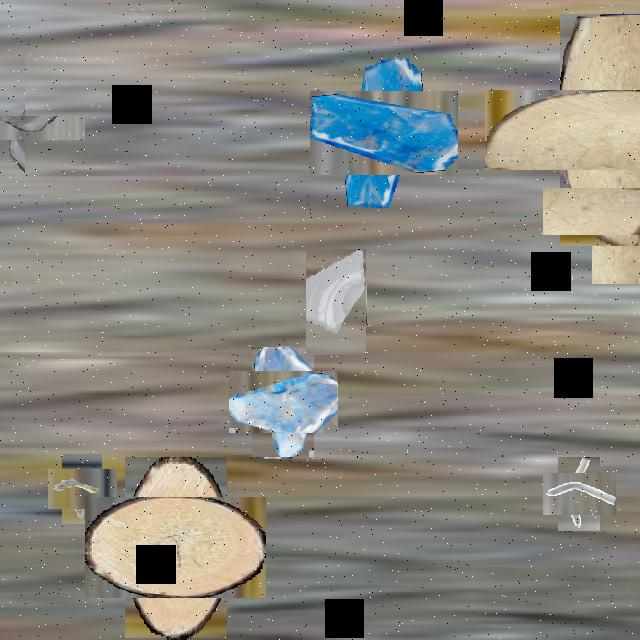glass: (326, 75, 442, 192), (240, 359, 326, 445), (567, 163, 640, 260), (306, 249, 366, 355), (0, 85, 55, 170)
metal: (550, 465, 608, 523), (54, 461, 110, 517)
wood: (105, 477, 247, 618), (522, 52, 640, 207)
